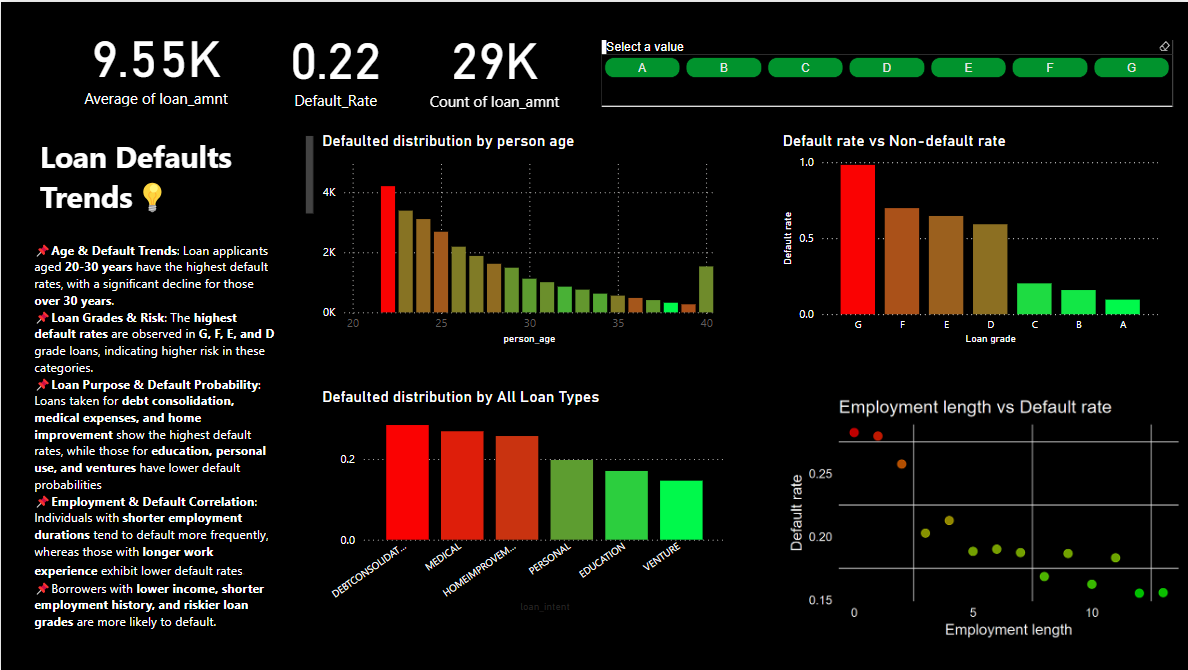

Layout of this report page (visuals, bound fields, positions):
{"tool":"powerbi","page":{"name":"Loan Defaults Trends","canvas":[1280,720],"ordinal":0},"visuals":[{"type":"clusteredColumnChart","title":"Defaulted distribution by person age","fields":{"Category":["credit_risk_dataset_cleaned.person_age"],"Y":["CountNonNull(credit_risk_dataset_cleaned.cb_person_default_on_file)"]},"box":[341.1,138.9,431.1,233.7],"z":0},{"type":"clusteredColumnChart","fields":{"Y":["credit_risk_dataset_cleaned.Default Rate"],"Category":["credit_risk_dataset_cleaned.loan_intent"]},"box":[341.1,415.3,443.7,246.3],"z":1000},{"type":"ChicletSlicer1448559807354","fields":{"Category":["credit_risk_dataset_cleaned.loan_grade"]},"box":[537.5,458.8,9.1,12.1],"z":2000},{"type":"card","fields":{"Values":["credit_risk_dataset_cleaned.Default_Rate"]},"box":[281.6,13.6,154.4,107.5],"z":3000},{"type":"card","fields":{"Values":["Avg(credit_risk_dataset_cleaned.loan_amnt)"]},"box":[57.5,13.6,216.5,104.5],"z":4000},{"type":"columnChart","title":"Default rate vs Non-default rate","fields":{"Y":["credit_risk_dataset_cleaned.Default_Rate"],"Category":["credit_risk_dataset_cleaned.loan_grade"]},"box":[835.3,138.9,413.7,233.7],"z":5000},{"type":"ChicletSlicer1448559807354","fields":{"Category":["credit_risk_dataset_cleaned.loan_grade"]},"box":[640.5,34.8,623.9,81.8],"z":6000},{"type":"card","fields":{"Values":["CountNonNull(credit_risk_dataset_cleaned.loan_amnt)"]},"box":[427,12.1,205.9,109],"z":7000},{"type":"scriptVisual","fields":{"Values":["credit_risk_dataset_cleaned.Default Rate","credit_risk_dataset_cleaned.person_emp_length"]},"box":[835.3,415.3,443.7,282.6],"z":8000},{"type":"textbox","box":[37.5,139.3,303.6,94.6],"z":9000},{"type":"bookmarkNavigator","box":[0,0,600,50],"z":10000},{"type":"textbox","box":[30.3,251.4,272.6,428.5],"z":11000}]}

Visuals, with their boxes in screenshot pixels (x1, y1, x2, y2), scaled from the page's 1280x720 canvas onto the 1188x670 screenshot:
"Defaulted distribution by person age" clusteredColumnChart: left=317, top=129, right=717, bottom=347
clusteredColumnChart - credit_risk_dataset_cleaned.Default Rate x credit_risk_dataset_cleaned.loan_intent: left=317, top=386, right=728, bottom=616
ChicletSlicer1448559807354 - credit_risk_dataset_cleaned.loan_grade: left=499, top=427, right=507, bottom=438
card - credit_risk_dataset_cleaned.Default_Rate: left=261, top=13, right=405, bottom=113
card - Avg(credit_risk_dataset_cleaned.loan_amnt): left=53, top=13, right=254, bottom=110
"Default rate vs Non-default rate" columnChart: left=775, top=129, right=1159, bottom=347
ChicletSlicer1448559807354 - credit_risk_dataset_cleaned.loan_grade: left=594, top=32, right=1174, bottom=109
card - CountNonNull(credit_risk_dataset_cleaned.loan_amnt): left=396, top=11, right=587, bottom=113
scriptVisual - credit_risk_dataset_cleaned.Default Rate x credit_risk_dataset_cleaned.person_emp_length: left=775, top=386, right=1187, bottom=649
textbox: left=35, top=130, right=317, bottom=218
bookmarkNavigator: left=0, top=0, right=557, bottom=47
textbox: left=28, top=234, right=281, bottom=633
